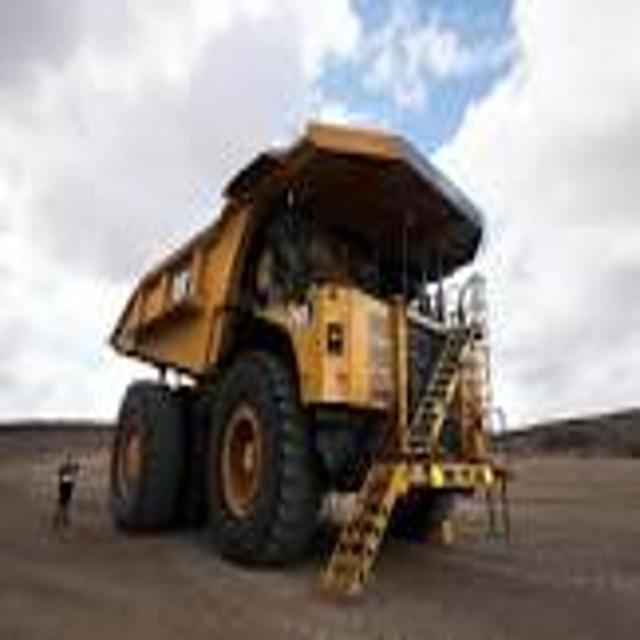dump_truck: (107, 104, 520, 591)
